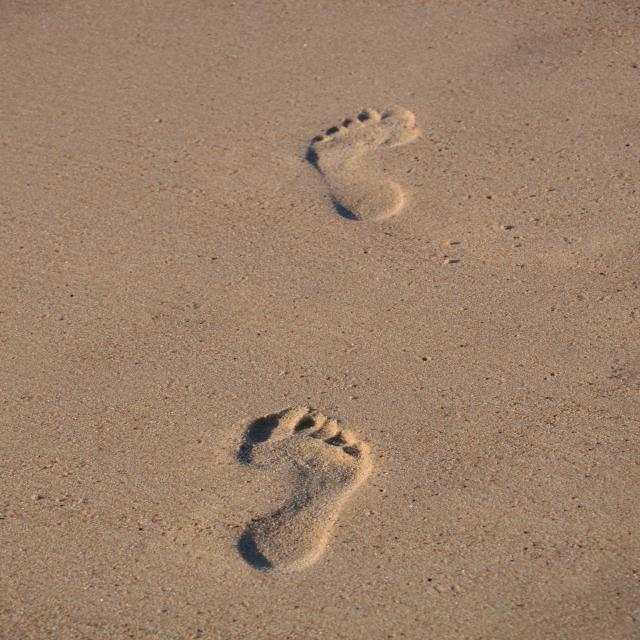human_footprint: (228, 401, 376, 578)
